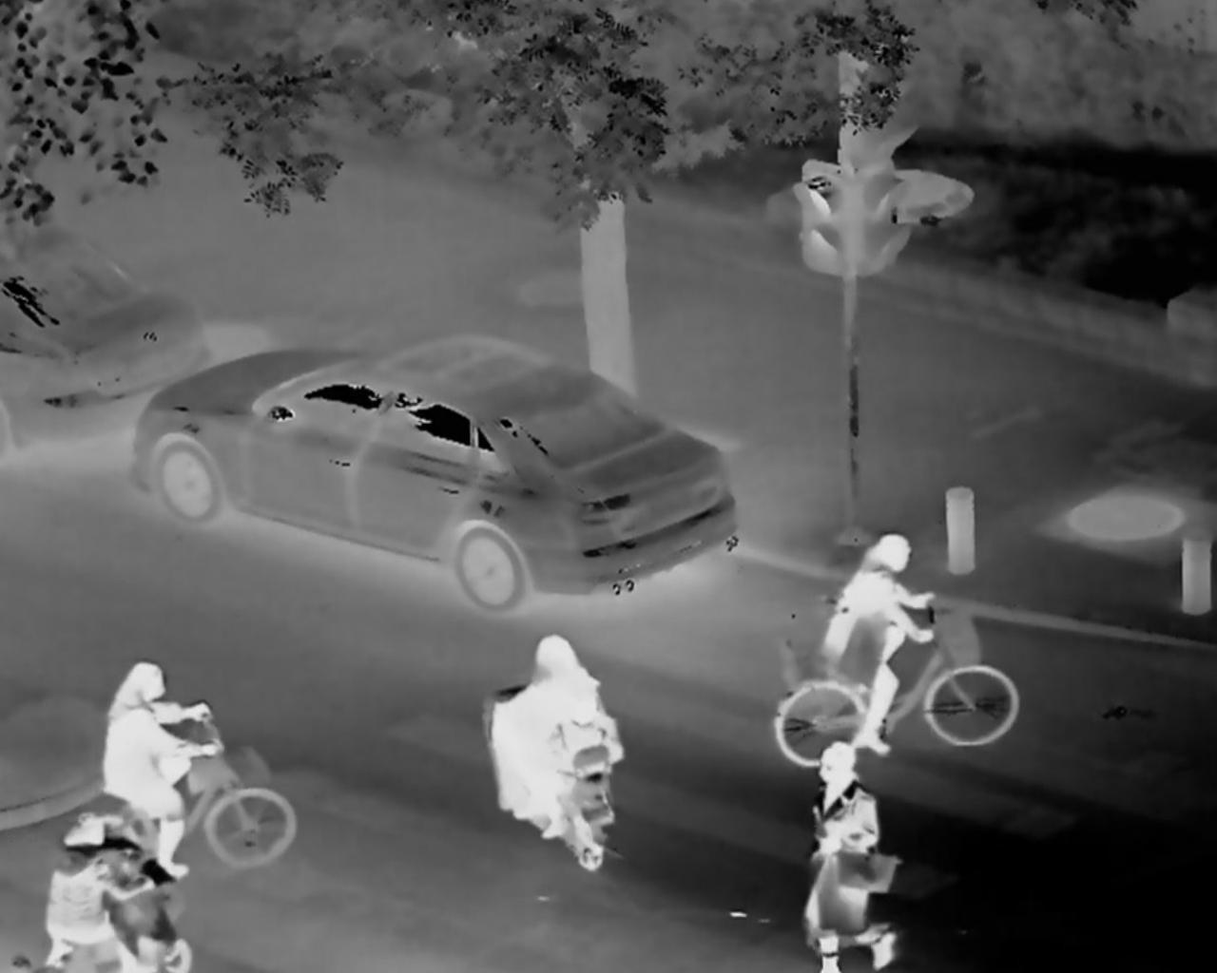person: (477, 630, 642, 884), (90, 655, 254, 893), (806, 531, 968, 763), (774, 740, 932, 973), (38, 796, 203, 973)
